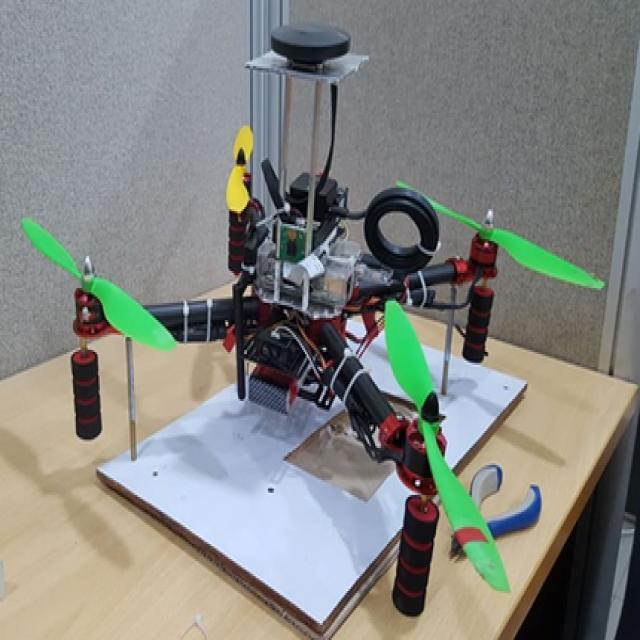drone: (20, 86, 617, 588)
